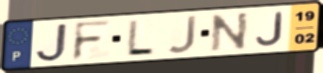F: (70, 19, 114, 62)
J: (33, 22, 70, 64), (165, 14, 199, 55), (254, 11, 285, 47)
L: (124, 18, 156, 56)
N: (209, 11, 251, 53)
